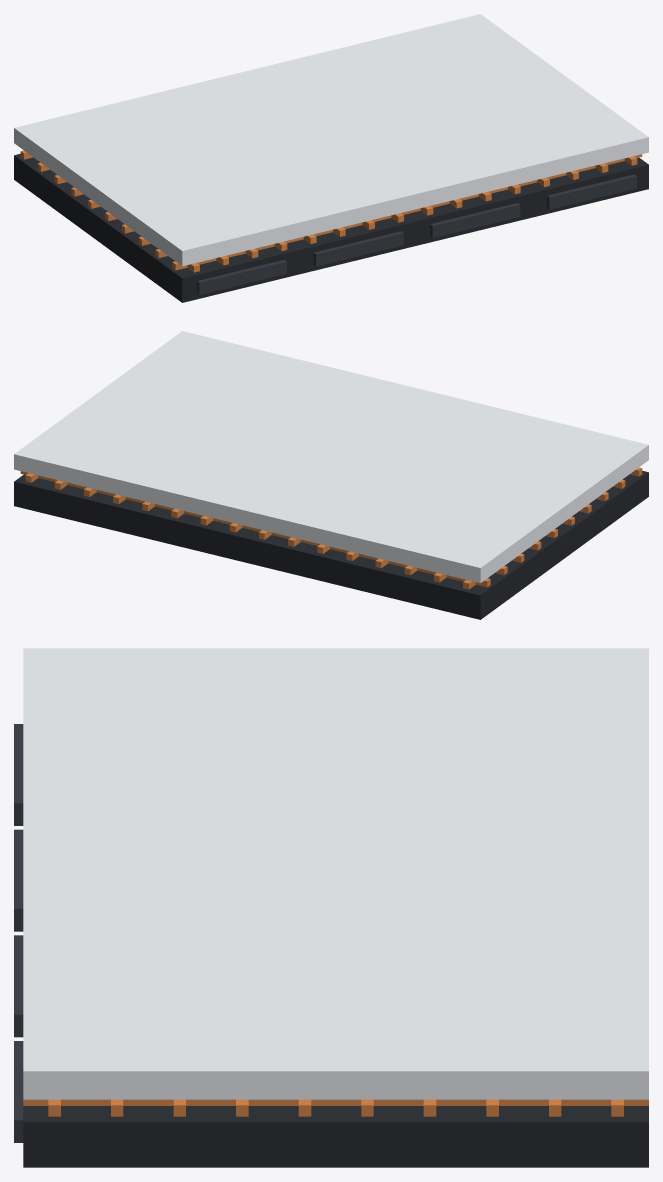
Rendered from panel_capas.glb.
3 renders of one model, top to bottom at view 1: azimuth 30°, elevation 25°; view 2: azimuth 150°, elevation 25°; view 3: azimuth 270°, elevation 25°, orthographic. The views are drawn at different scales.
Parts seen in each view (by area): view 1: pintura, fibra, malla, Cube.001, Cube.002, Cube, Cube.003; view 2: pintura, fibra, malla; view 3: pintura, fibra, malla, Cube.001, Cube.002, Cube, Cube.003.
Part boxes in pixels (x1,y1,x2,y2): pintura: [14, 14, 648, 266]; fibra: [14, 153, 648, 302]; malla: [20, 150, 642, 272]; Cube.001: [313, 231, 403, 266]; Cube.002: [430, 203, 520, 237]; Cube: [197, 260, 286, 294]; Cube.003: [547, 174, 636, 209]; pintura: [14, 331, 648, 583]; fibra: [14, 470, 648, 619]; malla: [20, 467, 642, 589]; pintura: [23, 648, 648, 1099]; fibra: [23, 1106, 648, 1167]; malla: [23, 1099, 648, 1116]; Cube.001: [14, 829, 23, 931]; Cube.002: [14, 935, 23, 1037]; Cube: [14, 724, 23, 825]; Cube.003: [14, 1041, 23, 1142].
Size of the model in its own units: 1.6 by 0.17 by 1.01.
